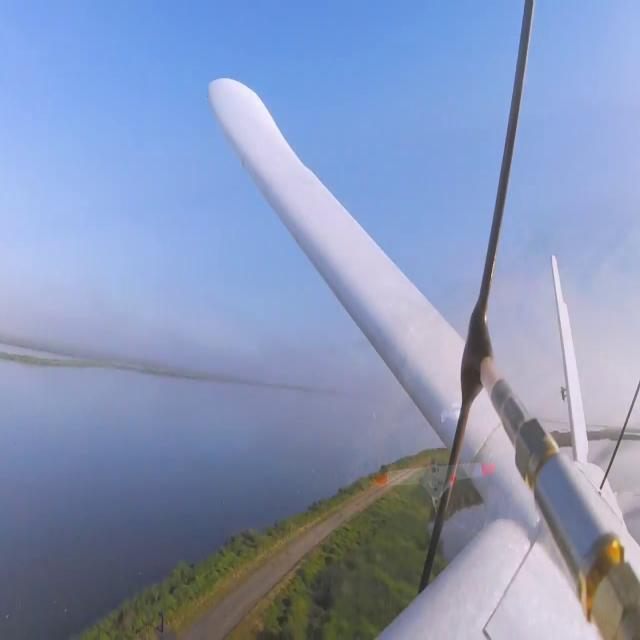iha: (204, 1, 640, 640)
